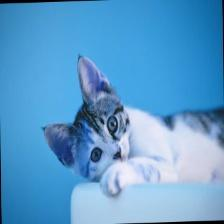kedo: (47, 56, 224, 195)
